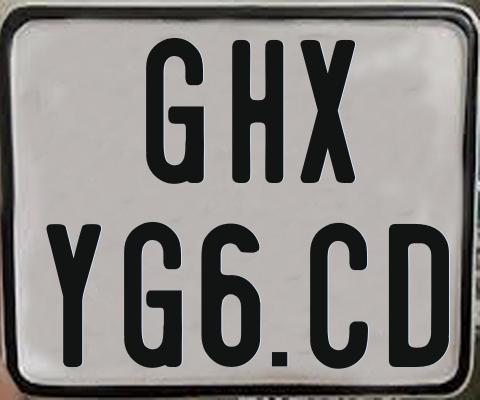6: (198, 222, 258, 370)
C: (309, 223, 372, 370)
D: (388, 222, 453, 369)
G: (123, 221, 186, 369), (144, 35, 203, 181)
H: (231, 38, 282, 186)
X: (299, 38, 360, 187)
Y: (43, 223, 103, 371)
